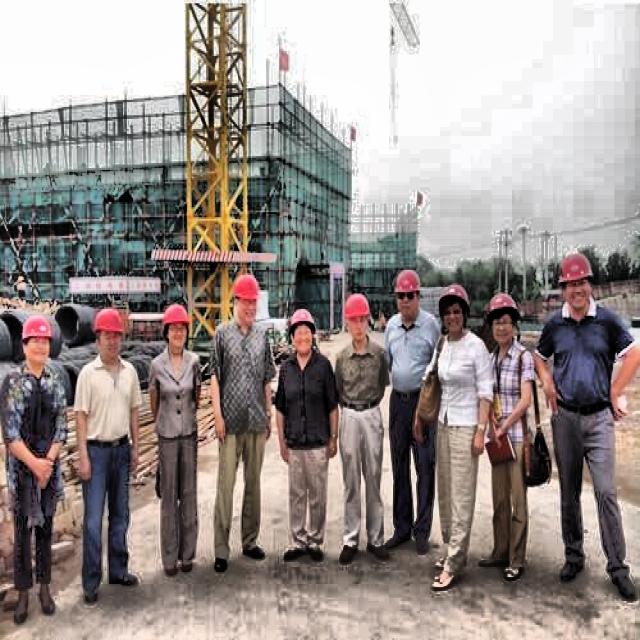helmet: (557, 250, 598, 316), (435, 280, 474, 341), (92, 304, 126, 363), (20, 306, 52, 368), (342, 284, 374, 346), (486, 290, 520, 348), (284, 304, 318, 360), (228, 272, 260, 329), (392, 267, 424, 324), (157, 302, 192, 353)
